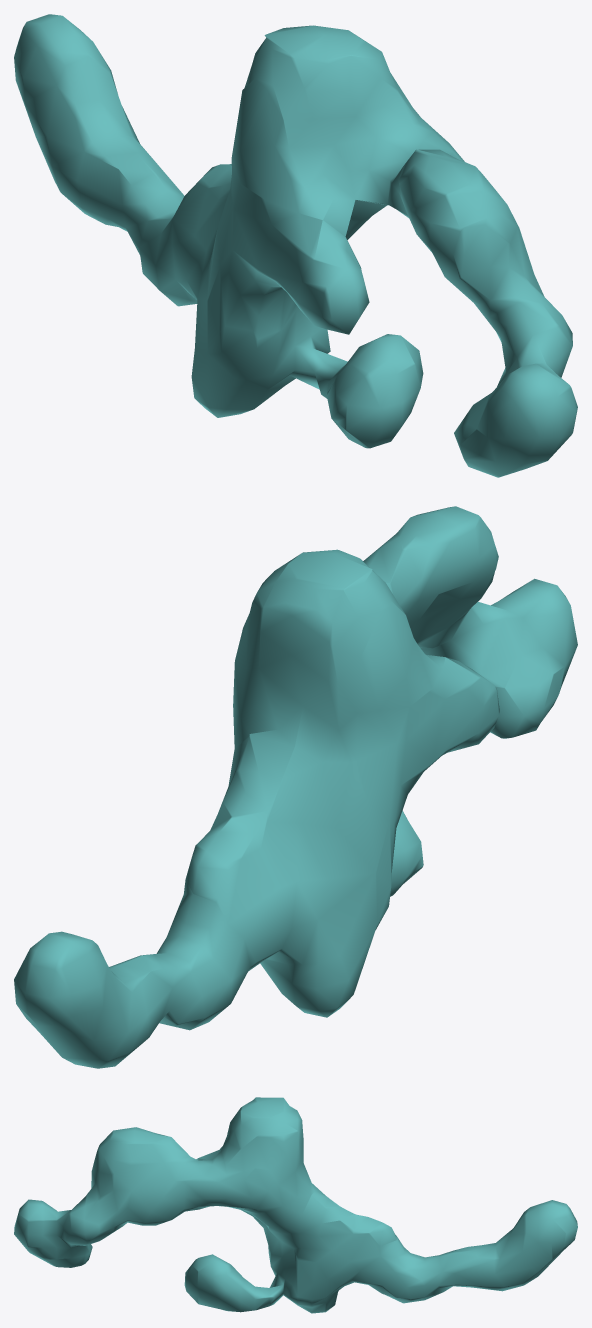
The picture shows the model from 3 angles, top to bottom: view 1: azimuth 30°, elevation 25°; view 2: azimuth 150°, elevation 25°; view 3: azimuth 270°, elevation 25°; orthographic projection. The views are drawn at different scales.
Visible parts, largest first — view 1: SM_VFX_Water_Shape_LOD0; view 2: SM_VFX_Water_Shape_LOD0; view 3: SM_VFX_Water_Shape_LOD0.
Part boxes in pixels (x1=…): SM_VFX_Water_Shape_LOD0: x1=14, y1=14, x2=577, y2=477; SM_VFX_Water_Shape_LOD0: x1=14, y1=506, x2=577, y2=1068; SM_VFX_Water_Shape_LOD0: x1=14, y1=1097, x2=577, y2=1313.
Size of the model in its own units: 2.82 by 5.93 by 13.82.
1 material, 1 textured.
